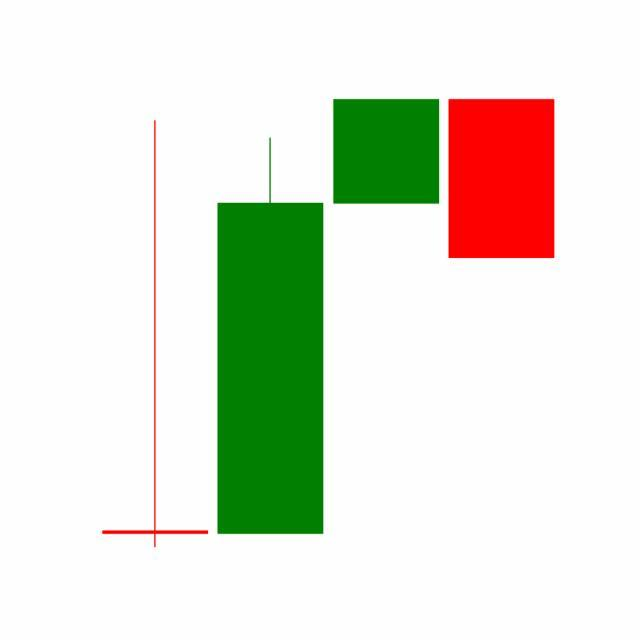Marubozu: (444, 98, 560, 260)
